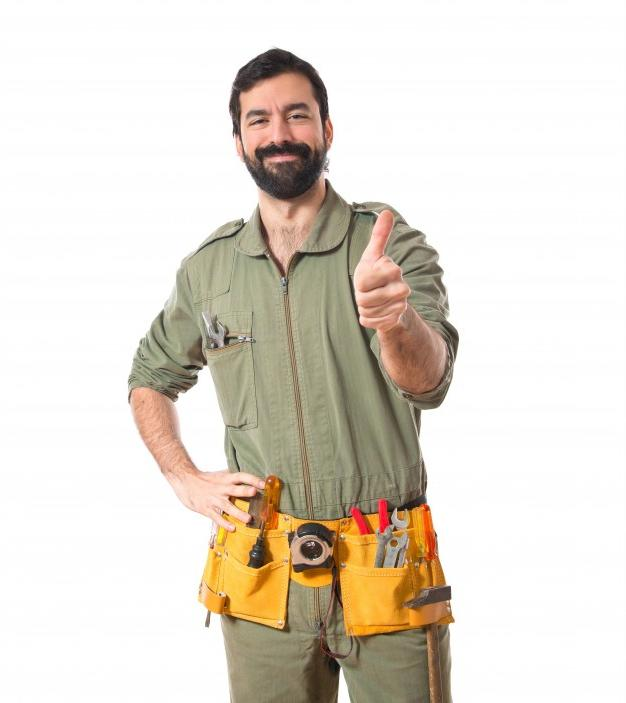thumbsup: (355, 210, 411, 329)
